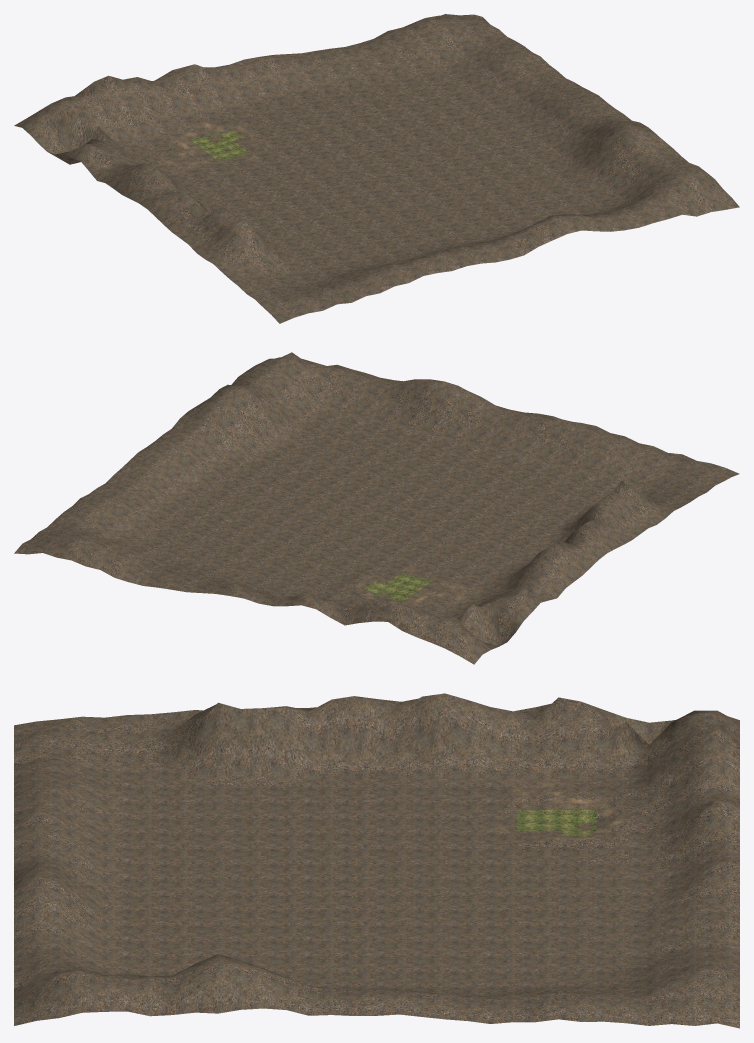
3 views of the same model, one above another, from view 1: azimuth 30°, elevation 25°; view 2: azimuth 150°, elevation 25°; view 3: azimuth 270°, elevation 25° (orthographic). The views are drawn at different scales.
Parts seen in each view (by area): view 1: Mesh; view 2: Mesh; view 3: Mesh.
Part boxes in pixels (x1,y1,x2,y2): Mesh: [14, 14, 739, 323]; Mesh: [14, 352, 739, 664]; Mesh: [14, 693, 739, 1028].
Size of the model in its own units: 390 by 38.25 by 390.
1 material, 1 textured.
